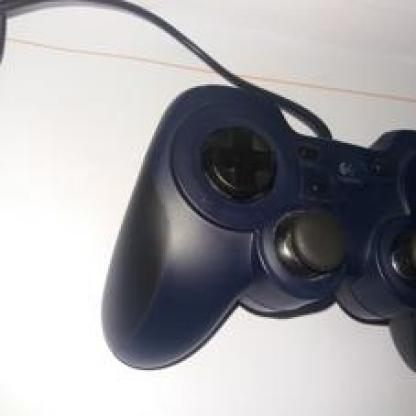gamepad: (116, 68, 414, 414)
